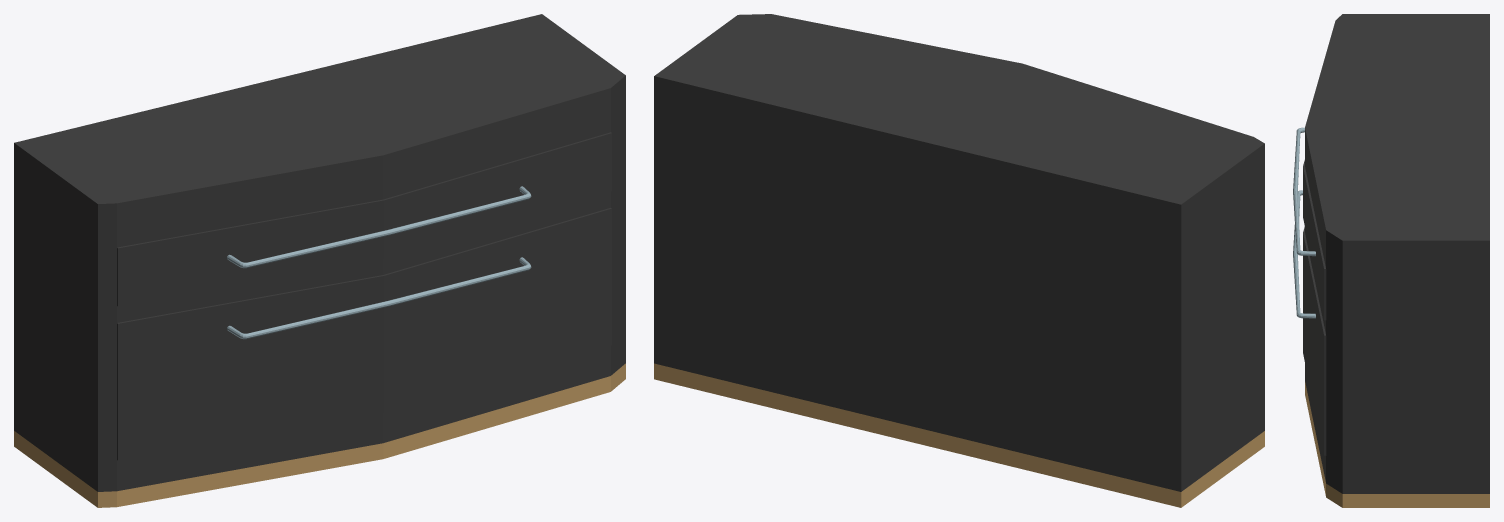
The model's file is DresserLargeV1.fbx.
3 views of the same model, side by side, from view 1: azimuth 30°, elevation 25°; view 2: azimuth 150°, elevation 25°; view 3: azimuth 270°, elevation 25° (orthographic). The views are drawn at different scales.
Parts seen in each view (by area): view 1: DresserLargeV1; view 2: DresserLargeV1; view 3: DresserLargeV1.
Part boxes in pixels (x1,y1,x2,y2): DresserLargeV1: [14, 14, 625, 507]; DresserLargeV1: [654, 14, 1264, 507]; DresserLargeV1: [1293, 14, 1489, 507].
Bounding box in the file's own units: 144 × 79.17 × 52.88.
